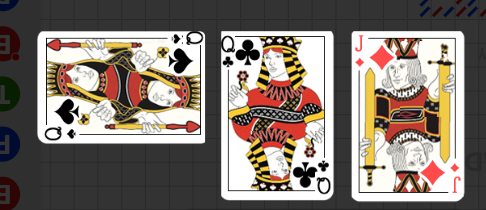9S: (42, 126, 79, 143)
JD: (450, 161, 463, 195)
QC: (223, 31, 267, 78), (290, 152, 334, 198)
